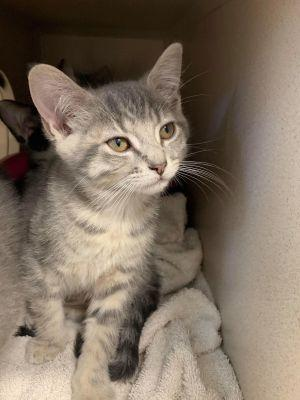bengal: (25, 38, 205, 201)
